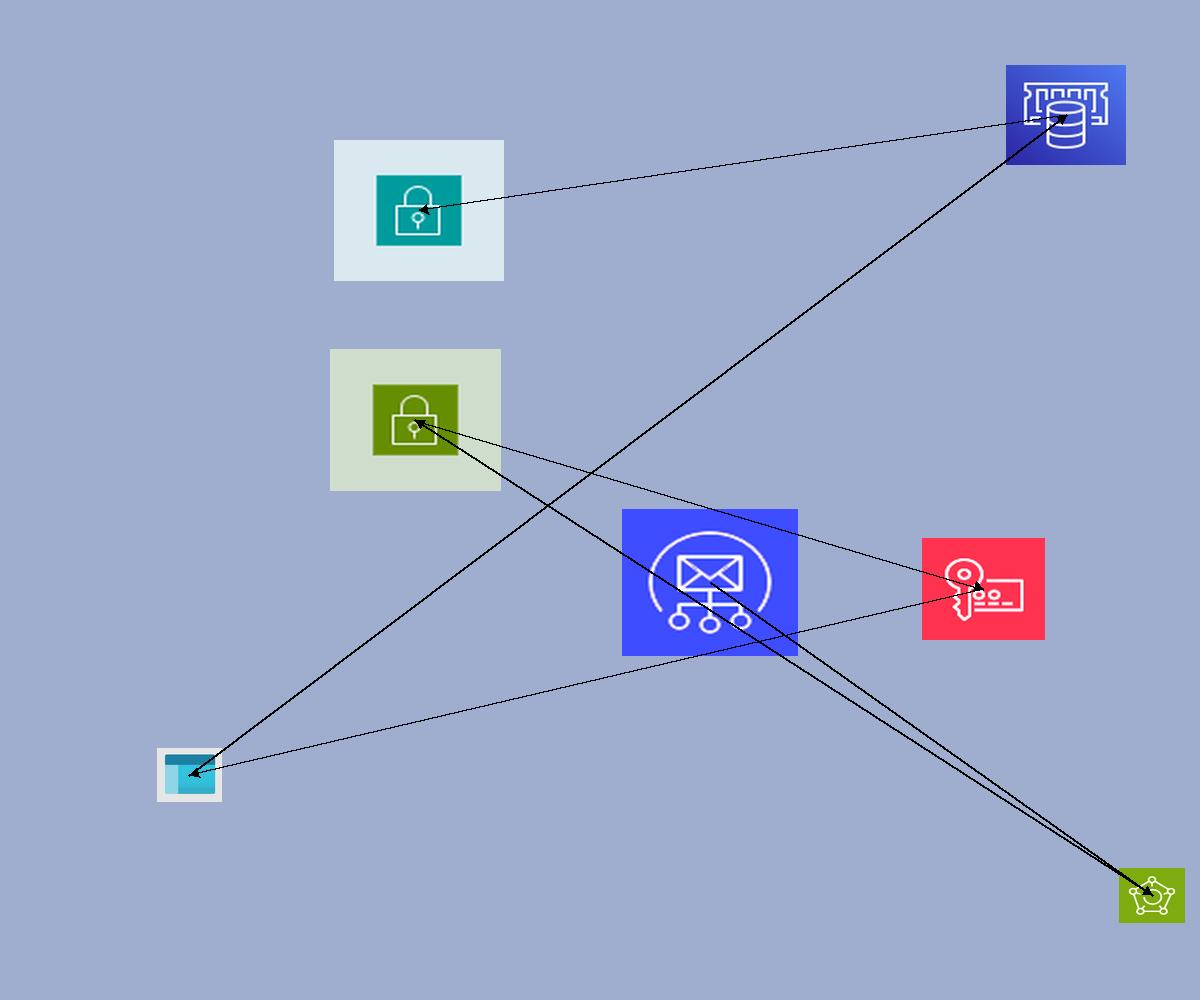AWS-Backup: (1119, 868, 1185, 923)
AWS-ElastiCache: (1006, 65, 1126, 165)
AWS-Key-Management-Service: (922, 538, 1045, 640)
AWS-Private-subnet: (334, 140, 504, 281)
AWS-Public-subnet: (330, 349, 501, 491)
AWS-Simple-Email-Service: (622, 509, 798, 656)
Azure_management-portal: (157, 748, 222, 802)
